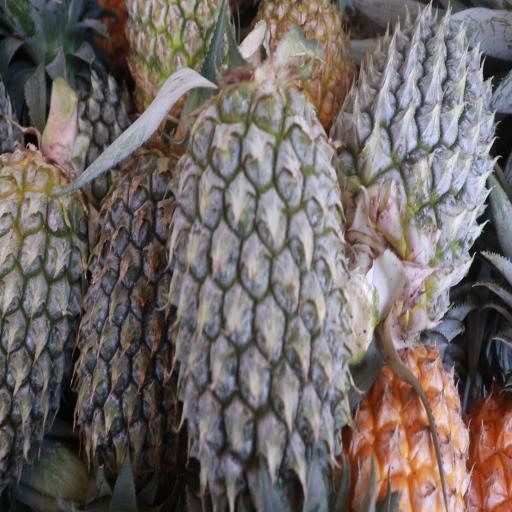------------------------------: (128, 0, 232, 103)
Pineapple - v8 v1: (350, 327, 472, 512)
